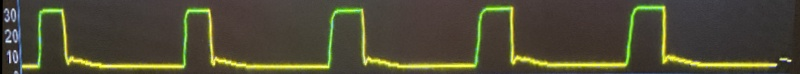normal_pressure: (22, 0, 786, 74)
